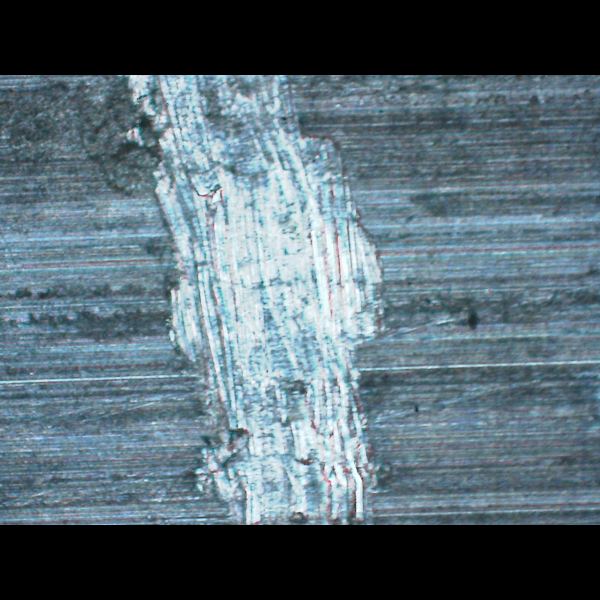d: (104, 75, 399, 524)
